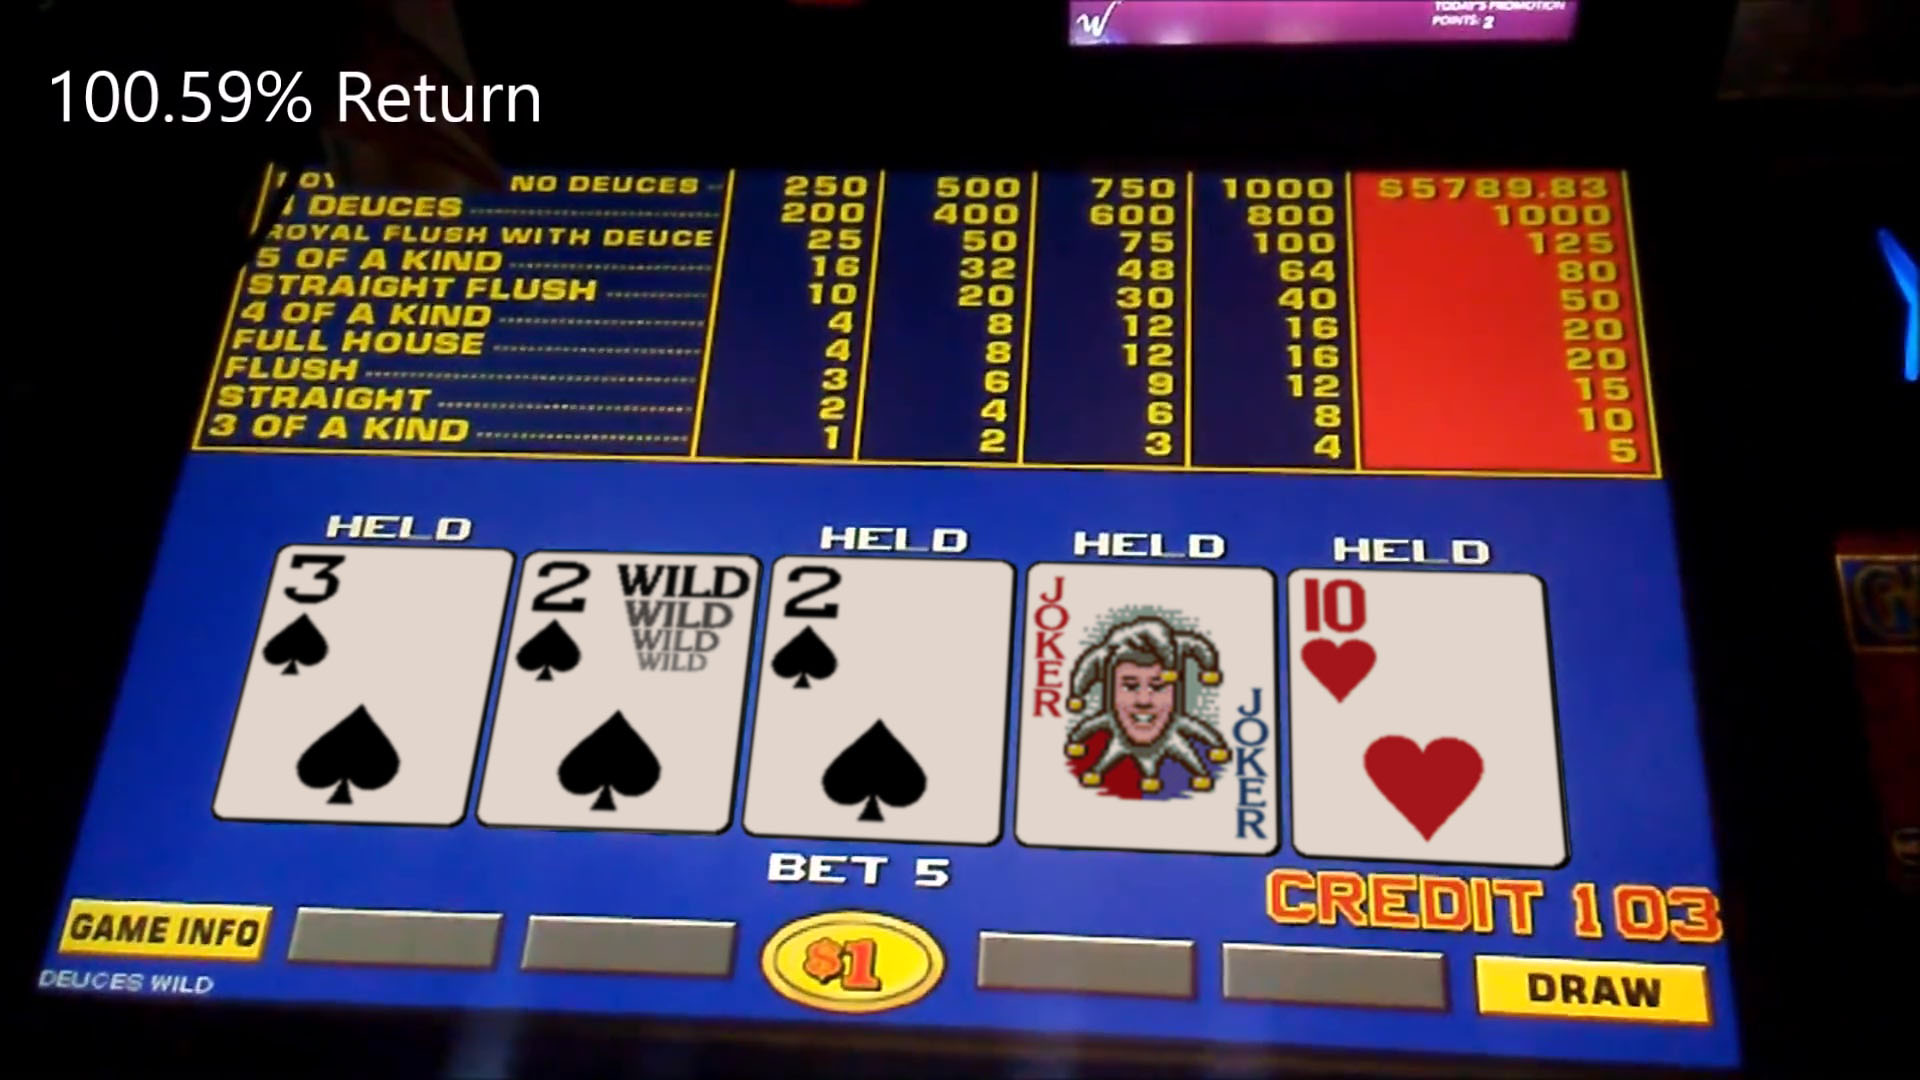HT: (1294, 575, 1540, 707)
S2: (771, 558, 1007, 696)
S2W: (520, 553, 745, 688)
S3: (265, 549, 491, 684)
joker: (1027, 566, 1270, 704)
